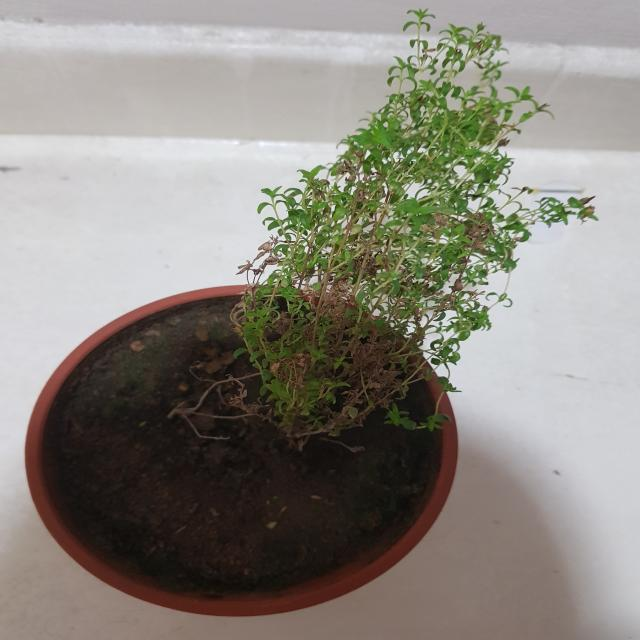Thyme: (163, 11, 621, 449)
